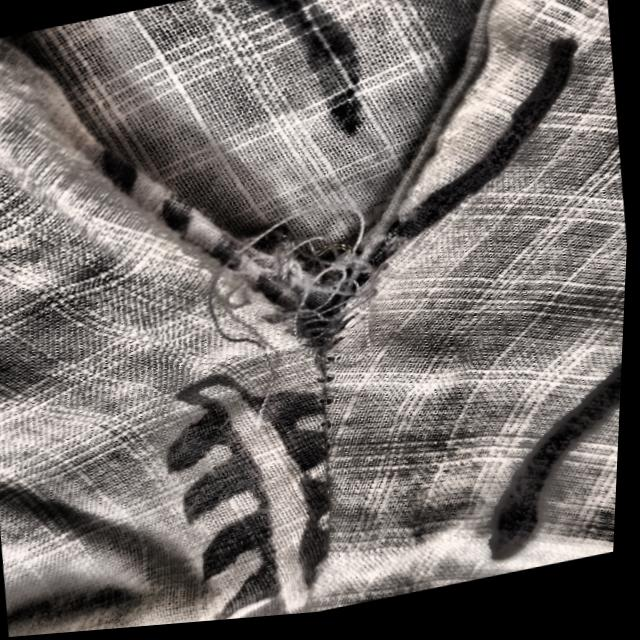Stitch: (190, 176, 420, 444)
